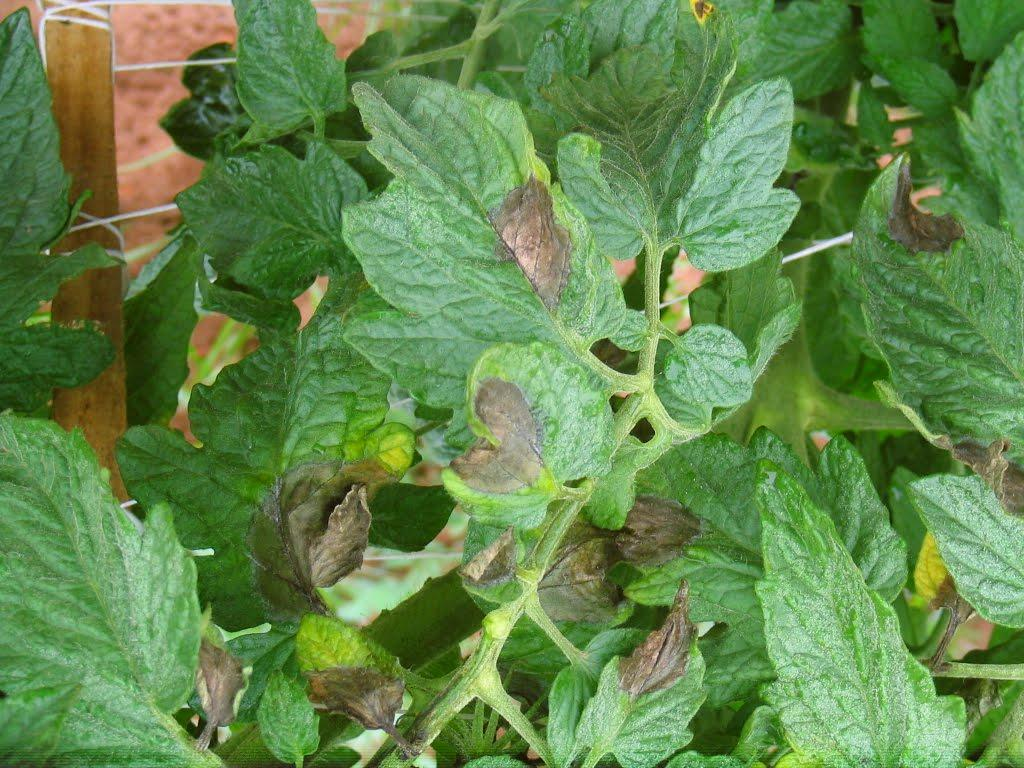Tomato leaf late blight: (111, 293, 399, 657), (337, 65, 631, 414), (441, 342, 618, 515), (579, 595, 699, 764), (287, 598, 412, 752)
